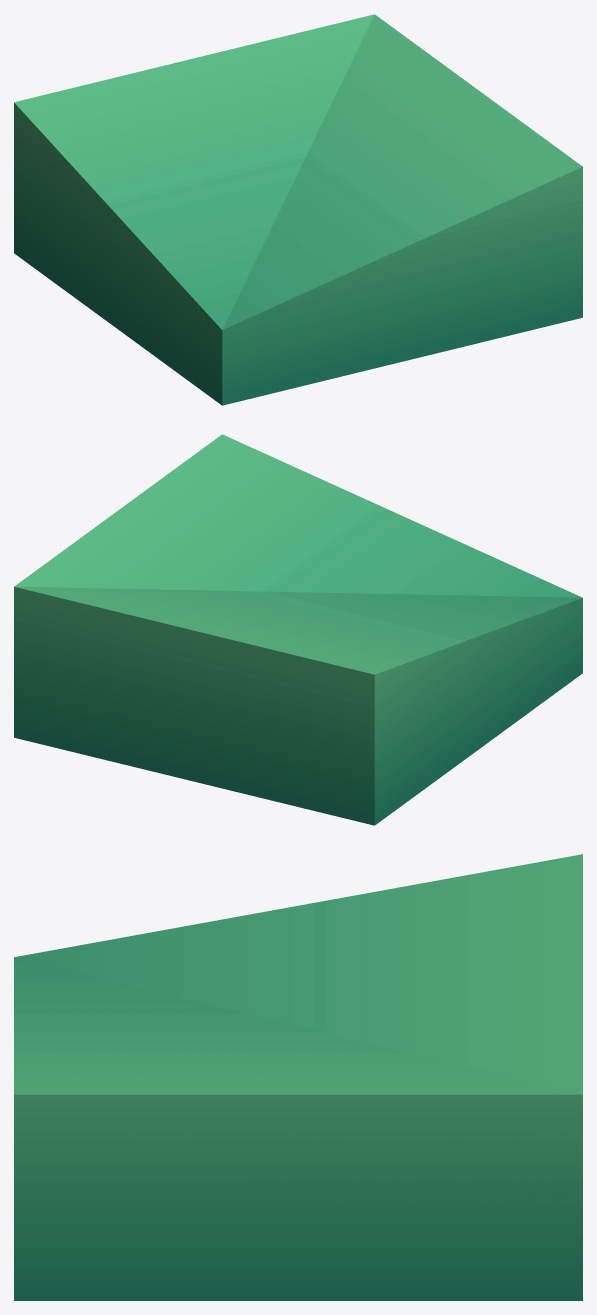
File: kenney-tower-defense-tile-corner-inner.glb
The picture shows the model from 3 angles, top to bottom: view 1: azimuth 30°, elevation 25°; view 2: azimuth 150°, elevation 25°; view 3: azimuth 270°, elevation 25°; orthographic projection. The views are drawn at different scales.
Visible parts, largest first — view 1: tile-corner-inner; view 2: tile-corner-inner; view 3: tile-corner-inner.
Boxes of the visible parts, x1,y1,x2,y2 form: tile-corner-inner: (14, 14, 582, 405); tile-corner-inner: (14, 434, 582, 825); tile-corner-inner: (14, 854, 582, 1300).
Size of the model in its own units: 1 by 0.3999 by 1.
Materials: 1 (1 with a texture image).
